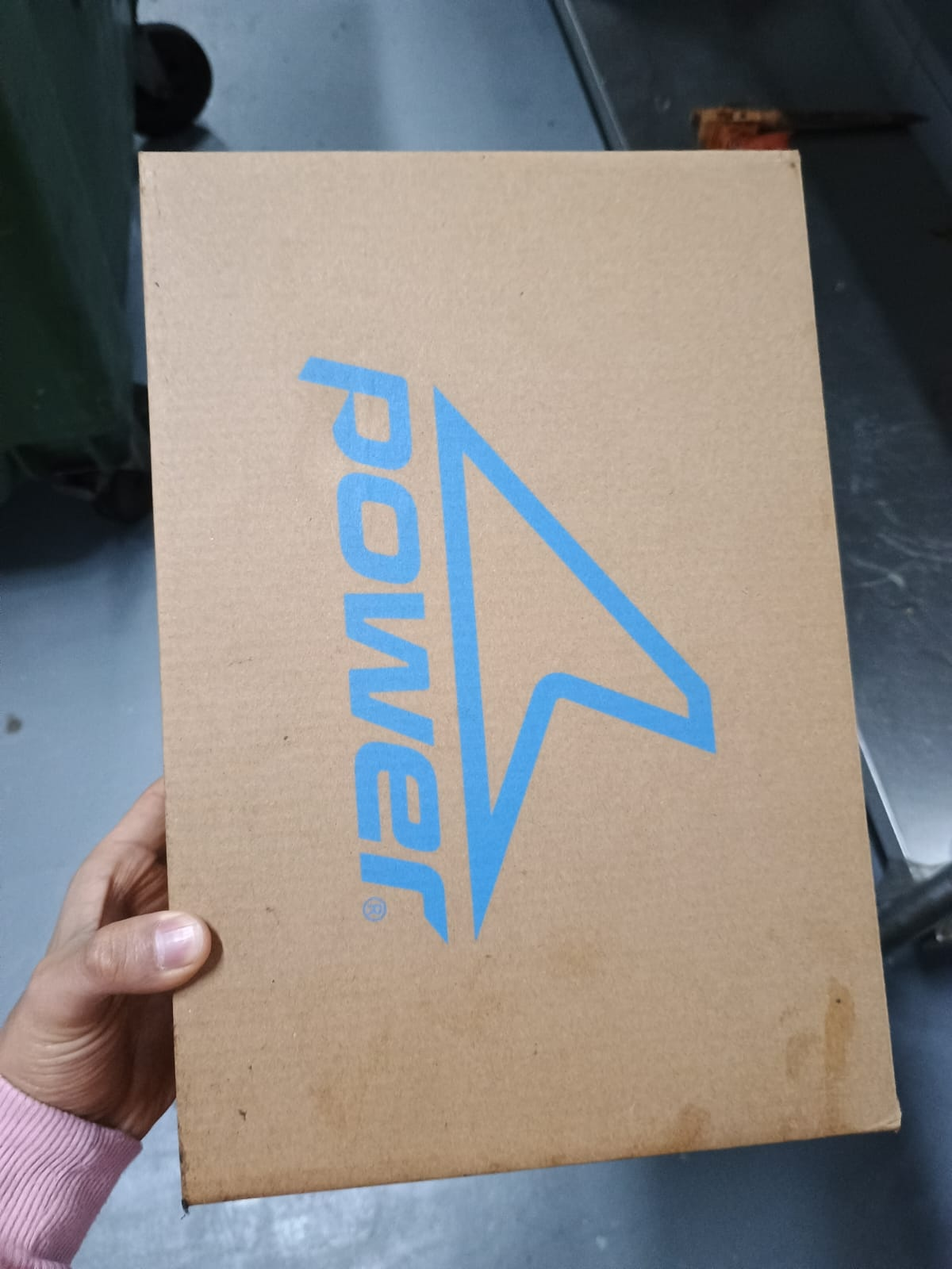Carton: (140, 150, 903, 1204)
